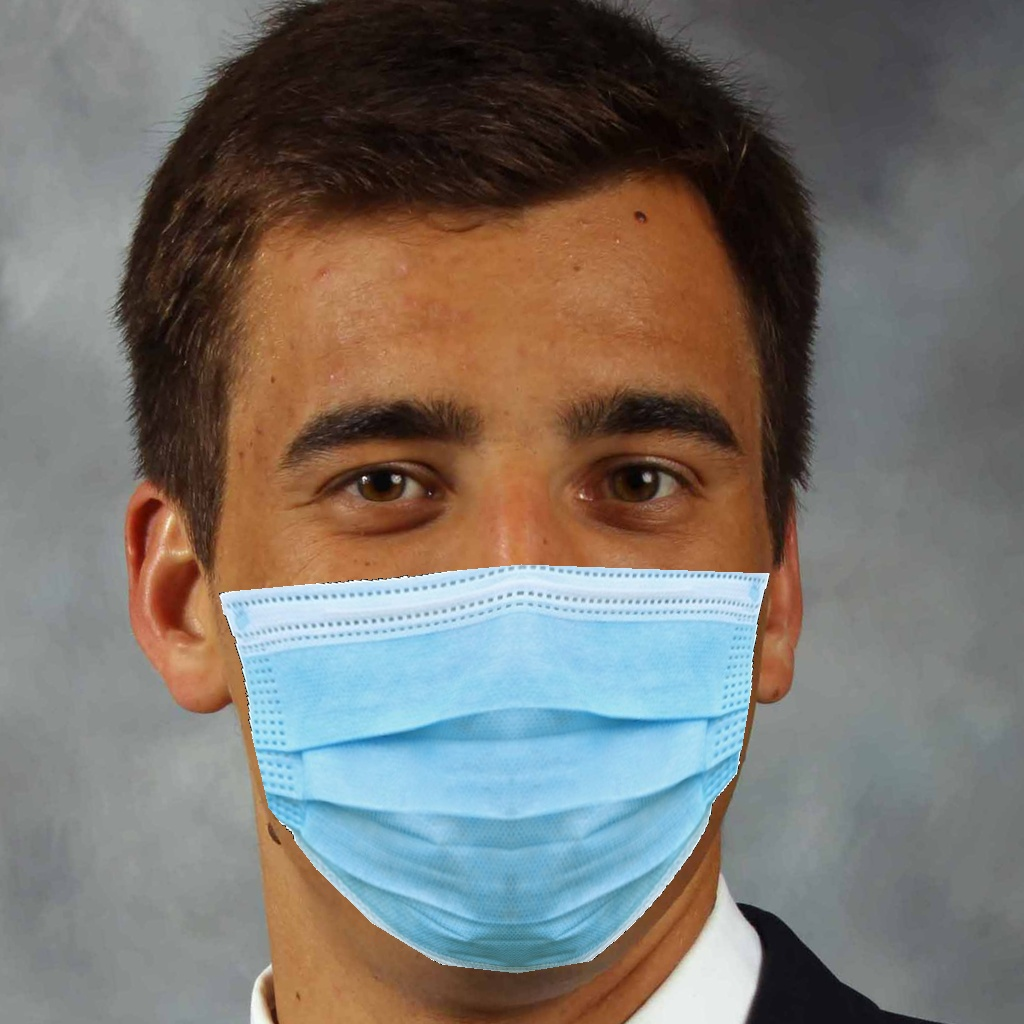Mask: (214, 343, 787, 974)
